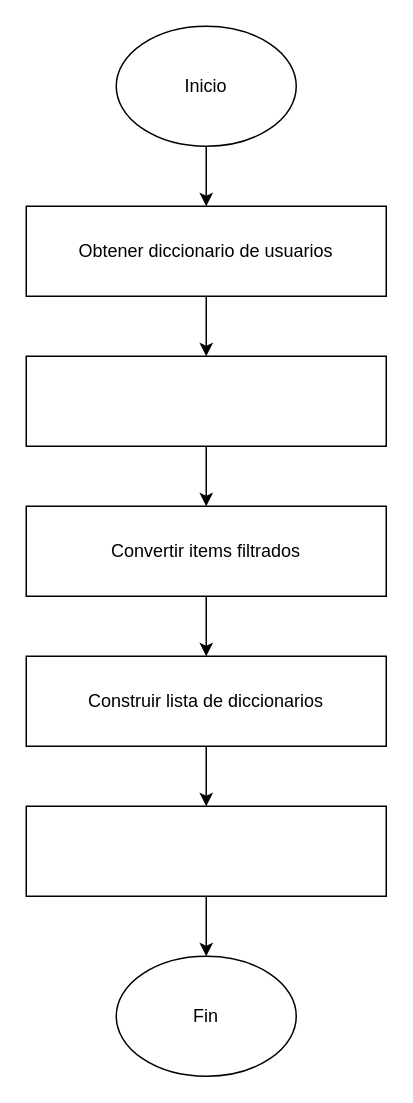
Some shapes in this 413 by 1103 pixel diagram are drawn without their labels. The shapes that lost their labels are listed below. From the top down, each one's centre as x and y in pixels, then its label:
At (205,400): "Filtrar usuarios >= 18 con filtro".
At (205,850): "Devolver lista resultante".
